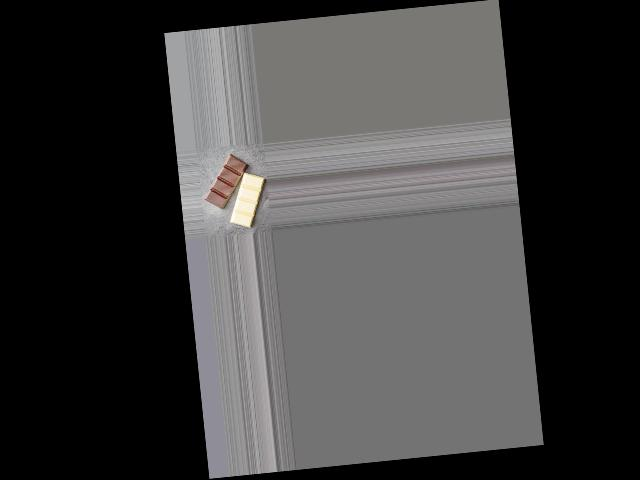chocolate: (201, 151, 268, 235)
